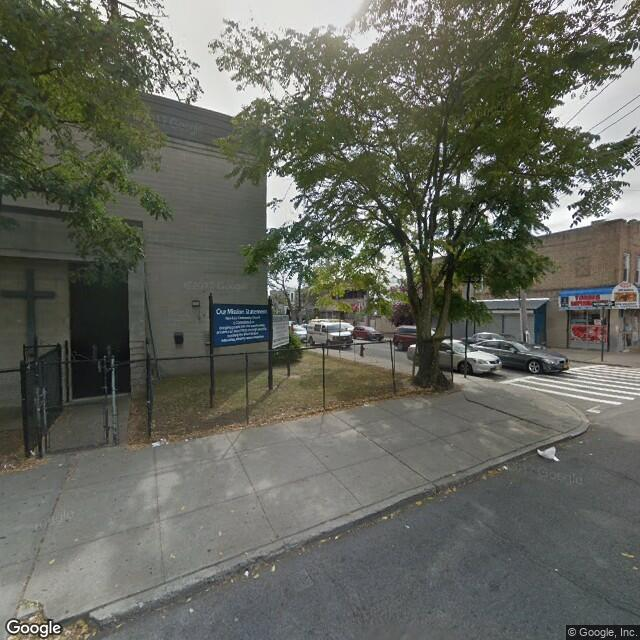litter: (537, 448, 561, 460), (152, 442, 164, 448), (27, 448, 36, 454), (243, 571, 250, 576), (502, 464, 508, 469)
